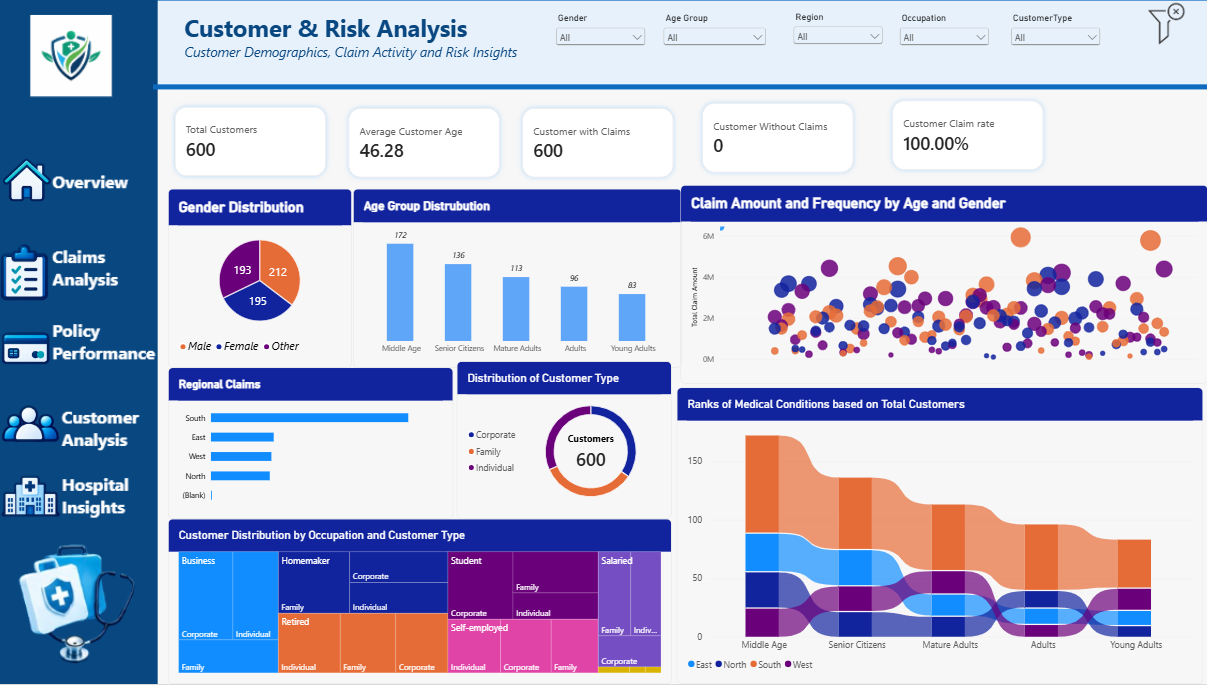

This screenshot's page, from the dashboard's own definition file:
{"tool":"powerbi","page":{"name":"Customer & Risk Analysis","canvas":[1920,1080],"ordinal":3},"visuals":[{"type":"pieChart","title":"Gender Distribution","fields":{"Category":["Dim_Customer.Gender"],"Y":["DAX Measures.Total Customers"]},"box":[276.3,297.9,290,282.2],"z":5000},{"type":"columnChart","title":" Age Group Distrubution","fields":{"Category":["Dim_Customer.Age Group"],"Y":["DAX Measures.Total Customers"]},"box":[568.3,297.9,519.3,282.2],"z":6000},{"type":"clusteredBarChart","title":"Regional Claims","fields":{"Category":["Dim_Customer.Region"],"Y":["DAX Measures.Total Claims"]},"box":[276.3,580,450.7,239.1],"z":9000},{"type":"donutChart","title":"Distribution of Customer Type","fields":{"Category":["Dim_Customer.CustomerType"],"Y":["DAX Measures.Total Customers"]},"box":[732.9,570.2,339,248.9],"z":11000},{"type":"shape","box":[0,0,1920,139.8],"z":17000},{"type":"image","box":[0,0,263,1081],"z":18000},{"type":"shape","box":[253.1,123.1,1666.9,29.6],"z":19000},{"type":"image","box":[11.4,228,82.8,110.4],"z":20000},{"type":"image","box":[0,339.8,99.4,180.4],"z":21000},{"type":"image","box":[10,490.4,82.8,121.5],"z":22000},{"type":"image","box":[10,606.3,99.4,127],"z":23000},{"type":"image","box":[10,714.9,99.4,138],"z":24000},{"type":"image","box":[1796.9,0,112.7,75.1],"z":25000},{"type":"textbox","box":[301,18.2,583.8,132.3],"z":26000},{"type":"slicer","fields":{"Values":["Dim_Customer.Gender"]},"box":[884.8,20.5,150.6,101.1],"z":26062},{"type":"slicer","fields":{"Values":["Dim_Customer.Region"]},"box":[1258.7,18.2,150.6,101.1],"z":26125},{"type":"slicer","fields":{"Values":["Dim_Customer.Age Group"]},"box":[1053.5,20.5,171.2,119.6],"z":26250},{"type":"slicer","fields":{"Values":["Dim_Customer.CustomerType"]},"box":[1603,20.5,150.6,101.1],"z":26500},{"type":"slicer","fields":{"Values":["Dim_Customer.Occupation"]},"box":[1427.5,20.5,150.6,101.1],"z":27000},{"type":"cardVisual","fields":{"Data":["DAX Measures.Total Customers"]},"box":[276.5,157,260.6,131.3],"z":27001},{"type":"cardVisual","fields":{"Data":["DAX Measures.Average Customer Age"]},"box":[550.6,160.7,260.6,131.3],"z":27002},{"type":"cardVisual","fields":{"Data":["DAX Measures.Customer with Claims"]},"box":[825,160.7,260.6,131.3],"z":27003},{"type":"cardVisual","fields":{"Data":["DAX Measures.Customer Without Claims"]},"box":[1109.1,152.8,260.6,131.3],"z":27004},{"type":"cardVisual","fields":{"Data":["DAX Measures.Customer Claim rate"]},"box":[1408.9,148.9,260.6,131.3],"z":27005},{"type":"ribbonChart","title":"Ranks of Medical Conditions based on Total Customers","fields":{"Category":["Dim_Customer.Age Group"],"Series":["Dim_Customer.Region"],"Y":["Count(Dim_Customer.CustomerID)"]},"box":[1079.7,611.4,830.9,468.3],"z":27009},{"type":"scatterChart","title":"Claim Amount and Frequency by Age and Gender","fields":{"Series":["Dim_Customer.Gender"],"Size":["DAX Measures.Total Claims"],"X":["Dim_Customer.Age"],"Y":["DAX Measures.Total Claim Amount"]},"box":[1085.6,292,834.8,313.5],"z":27010},{"type":"treemap","title":"Customer Distribution by Occupation and Customer Type","fields":{"Details":["Dim_Customer.CustomerType"],"Group":["Dim_Customer.Occupation"],"Values":["Count(Dim_Customer.CustomerID)"]},"box":[276.3,819.1,795.6,260.6],"z":27011}]}

Visuals, with their boxes on the page's 1920x1080 design canvas (x1, y1, x2, y2). These are canvas units, not pixel positions in the 1207x685 screenshot, which may show the page scaled, cropped or inside an application window:
"Gender Distribution" pieChart: <region>276, 298, 566, 580</region>
" Age Group Distrubution" columnChart: <region>568, 298, 1088, 580</region>
"Regional Claims" clusteredBarChart: <region>276, 580, 727, 819</region>
"Distribution of Customer Type" donutChart: <region>733, 570, 1072, 819</region>
shape: <region>0, 0, 1920, 140</region>
image: <region>0, 0, 263, 1081</region>
shape: <region>253, 123, 1920, 153</region>
image: <region>11, 228, 94, 338</region>
image: <region>0, 340, 99, 520</region>
image: <region>10, 490, 93, 612</region>
image: <region>10, 606, 109, 733</region>
image: <region>10, 715, 109, 853</region>
image: <region>1797, 0, 1910, 75</region>
textbox: <region>301, 18, 885, 150</region>
slicer - Dim_Customer.Gender: <region>885, 20, 1035, 122</region>
slicer - Dim_Customer.Region: <region>1259, 18, 1409, 119</region>
slicer - Dim_Customer.Age Group: <region>1054, 20, 1225, 140</region>
slicer - Dim_Customer.CustomerType: <region>1603, 20, 1754, 122</region>
slicer - Dim_Customer.Occupation: <region>1428, 20, 1578, 122</region>
cardVisual - DAX Measures.Total Customers: <region>276, 157, 537, 288</region>
cardVisual - DAX Measures.Average Customer Age: <region>551, 161, 811, 292</region>
cardVisual - DAX Measures.Customer with Claims: <region>825, 161, 1086, 292</region>
cardVisual - DAX Measures.Customer Without Claims: <region>1109, 153, 1370, 284</region>
cardVisual - DAX Measures.Customer Claim rate: <region>1409, 149, 1670, 280</region>
"Ranks of Medical Conditions based on Total Customers" ribbonChart: <region>1080, 611, 1911, 1080</region>
"Claim Amount and Frequency by Age and Gender" scatterChart: <region>1086, 292, 1920, 606</region>
"Customer Distribution by Occupation and Customer Type" treemap: <region>276, 819, 1072, 1080</region>
